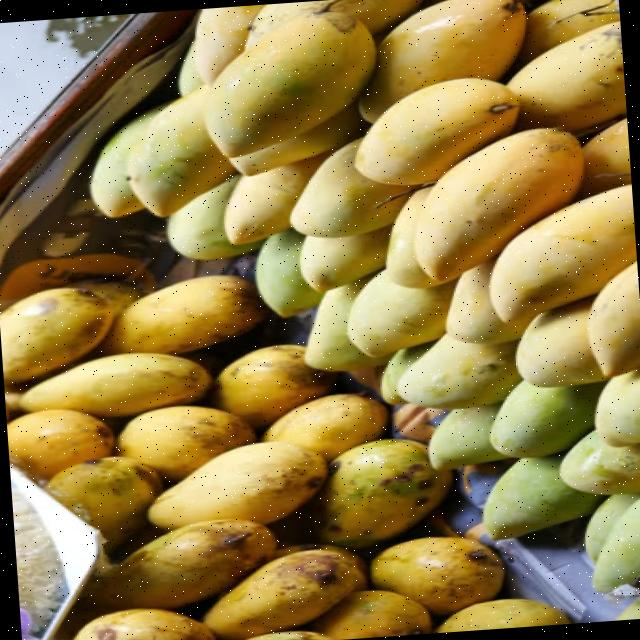mango: (414, 127, 584, 280), (204, 11, 376, 156), (358, 0, 525, 121), (489, 184, 634, 321), (353, 77, 519, 184), (98, 518, 276, 608), (148, 441, 327, 529), (203, 548, 366, 640), (315, 439, 452, 546), (128, 84, 235, 214), (506, 21, 626, 131), (102, 274, 267, 352), (21, 351, 211, 416), (292, 138, 414, 236), (44, 455, 162, 548), (0, 286, 114, 380), (370, 535, 503, 614), (117, 405, 253, 480), (486, 452, 601, 538), (215, 344, 334, 426), (223, 151, 329, 243), (229, 102, 365, 173), (347, 269, 454, 355), (396, 334, 520, 408), (490, 380, 604, 455), (91, 103, 166, 217), (261, 392, 388, 458), (516, 296, 606, 386), (167, 174, 262, 259), (303, 277, 388, 370), (6, 408, 113, 478), (310, 589, 431, 640), (587, 260, 640, 376), (298, 225, 390, 291), (254, 228, 321, 316), (385, 186, 441, 286), (561, 430, 640, 494), (429, 403, 507, 467), (75, 607, 214, 640), (592, 499, 640, 592), (435, 599, 570, 632), (595, 368, 640, 446)
